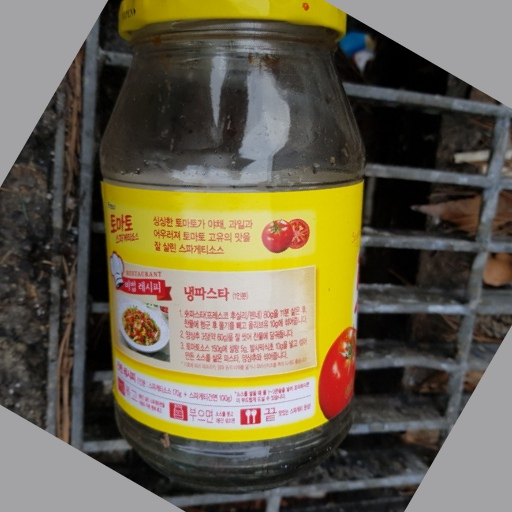Glass_5: (102, 1, 364, 488)
